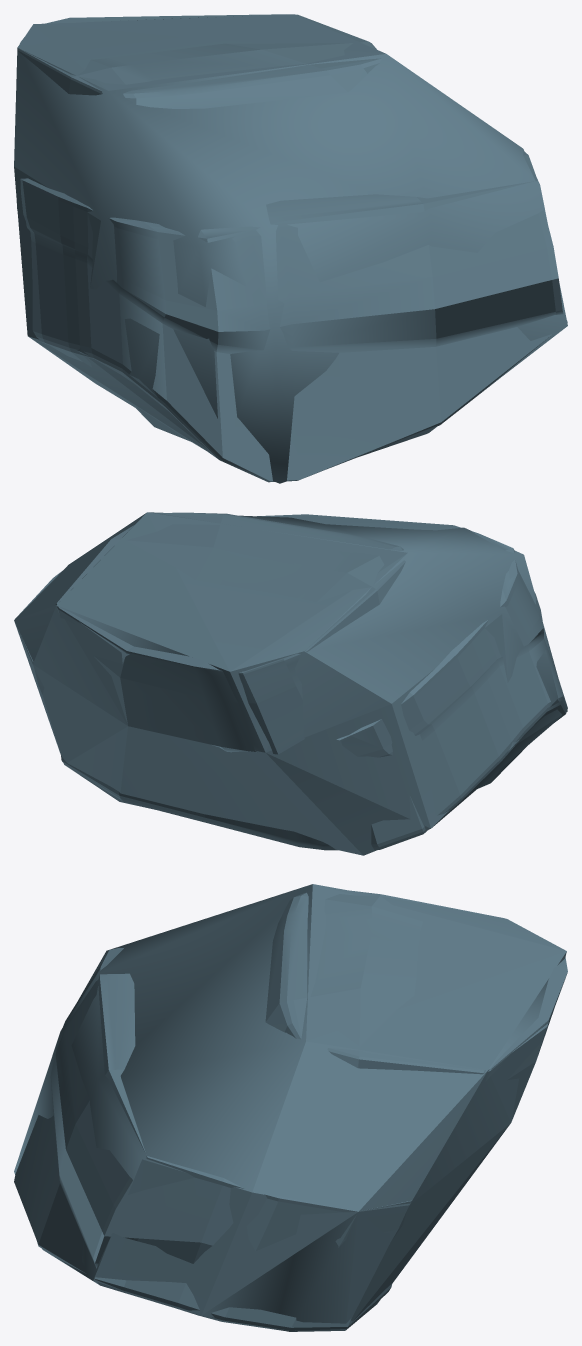
The model's file is rocks_round_D.fbx.
3 renders of one model, top to bottom at view 1: azimuth 30°, elevation 25°; view 2: azimuth 150°, elevation 25°; view 3: azimuth 270°, elevation 25°, orthographic. The views are drawn at different scales.
Parts seen in each view (by area): view 1: c_ROCKSROUND_D, ROCKSROUND_D; view 2: c_ROCKSROUND_D, ROCKSROUND_D; view 3: c_ROCKSROUND_D, ROCKSROUND_D.
Boxes of the visible parts, box(x1,y1,x2,y2) form: c_ROCKSROUND_D: box(14, 14, 567, 483); ROCKSROUND_D: box(16, 14, 567, 482); c_ROCKSROUND_D: box(14, 512, 567, 855); ROCKSROUND_D: box(14, 512, 567, 850); c_ROCKSROUND_D: box(14, 884, 566, 1331); ROCKSROUND_D: box(14, 890, 567, 1330).
Size of the model in its own units: 100 by 63.81 by 108.
